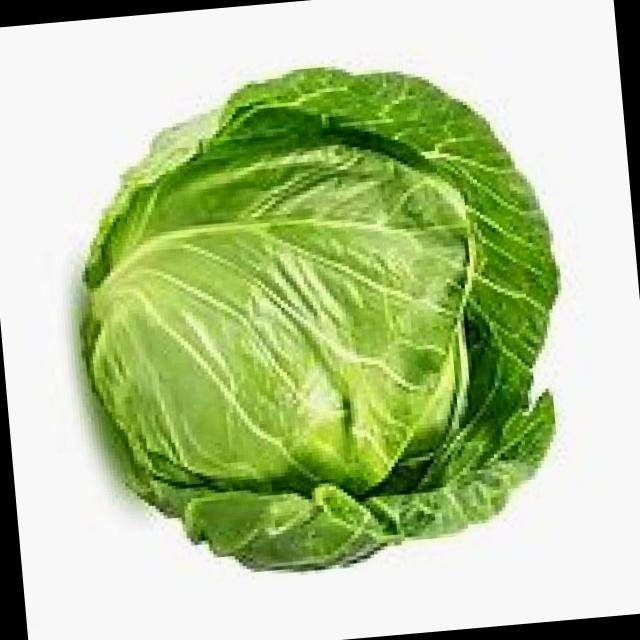cabbage: (63, 57, 582, 611)
